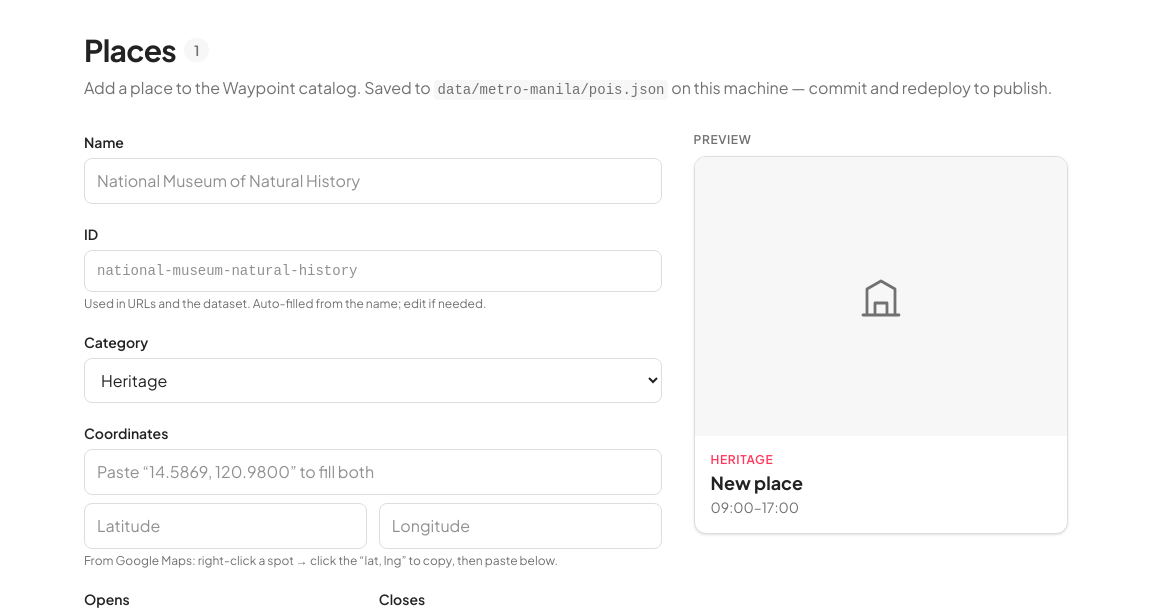
AdminDashboard › surfaces server-side field errors returned from the API
Type "Rizal Park" into the field labelled "Name" at (373, 181), box [84,158,662,204]
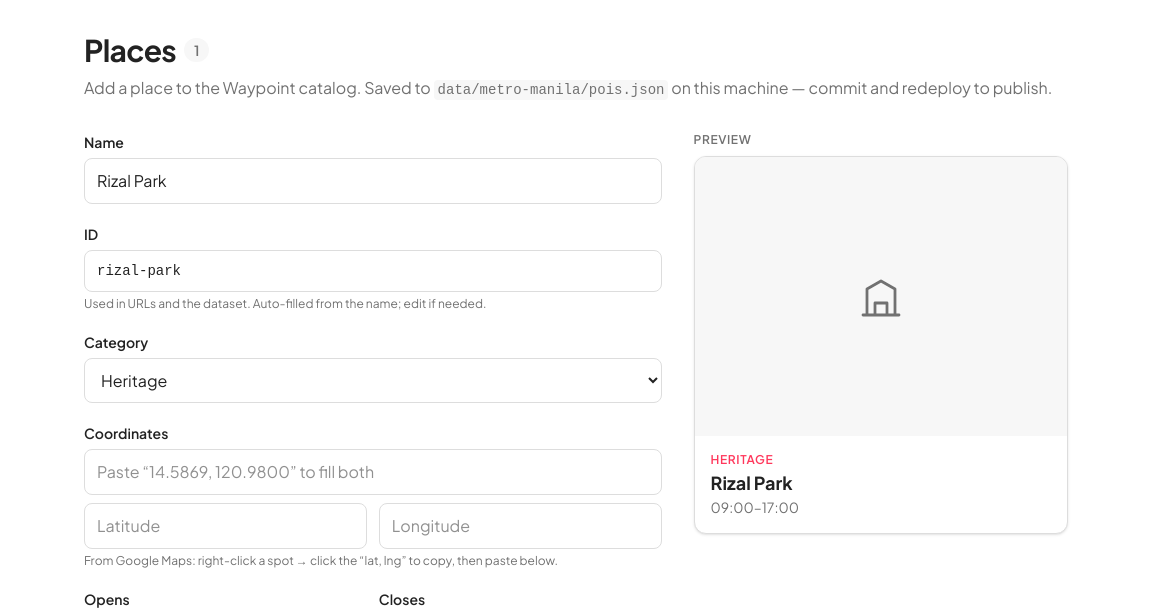
Type "14.5831" into the field labelled "Latitude" at (225, 526), box [84,503,367,549]
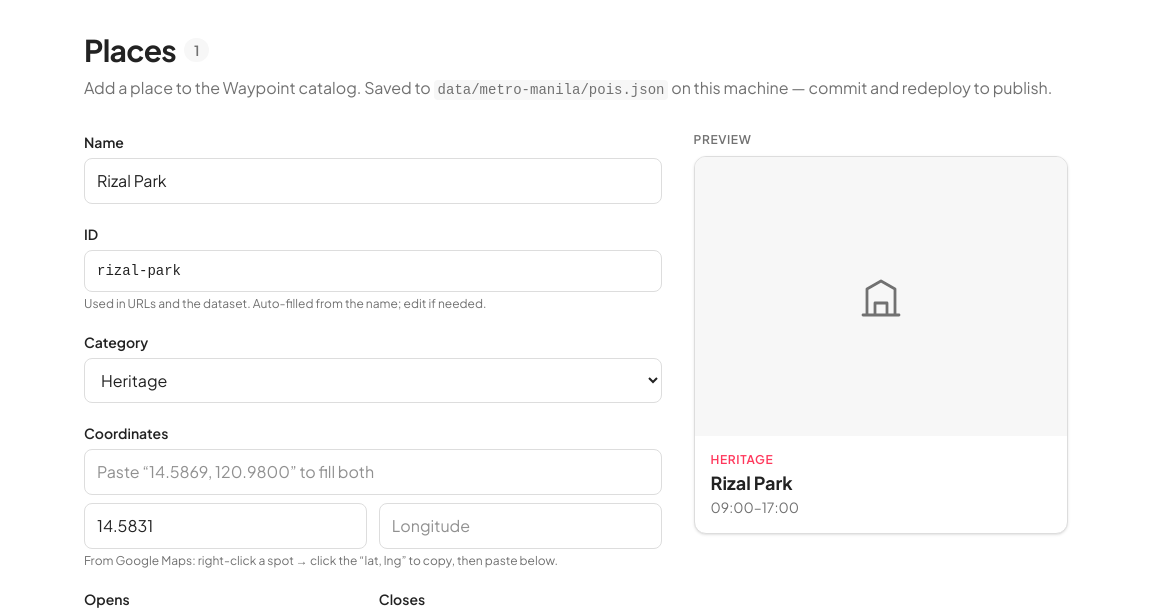
Type "120.9794" into the field labelled "Longitude" at (520, 526), box [379,503,662,549]
(page scrolled)
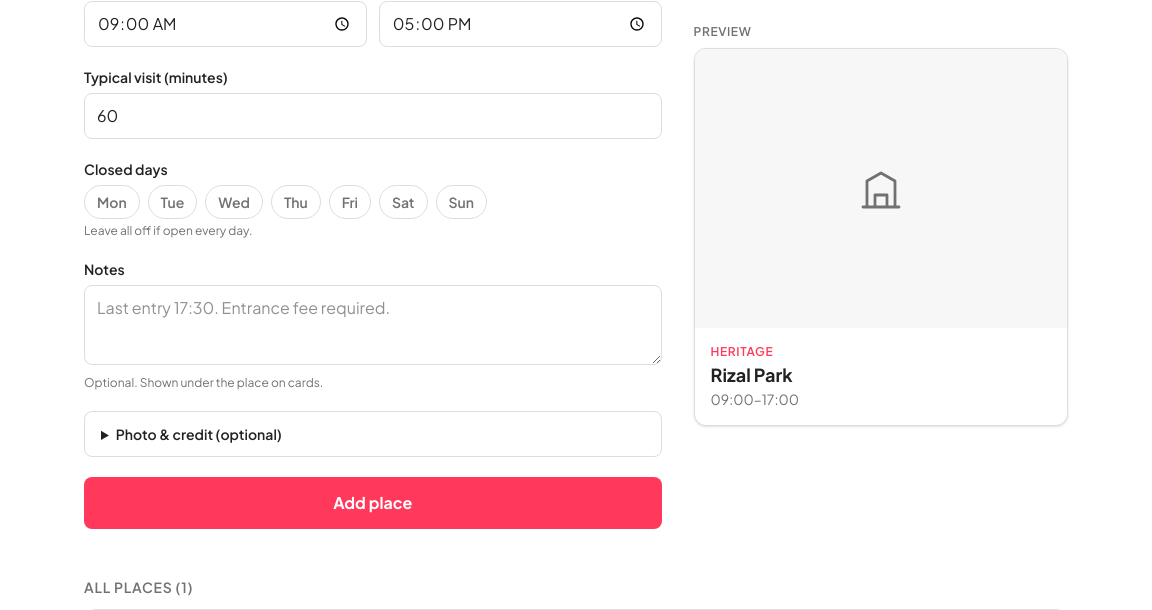
Click the button "Add place" at (373, 503), box [84,477,662,529]
(page scrolled)
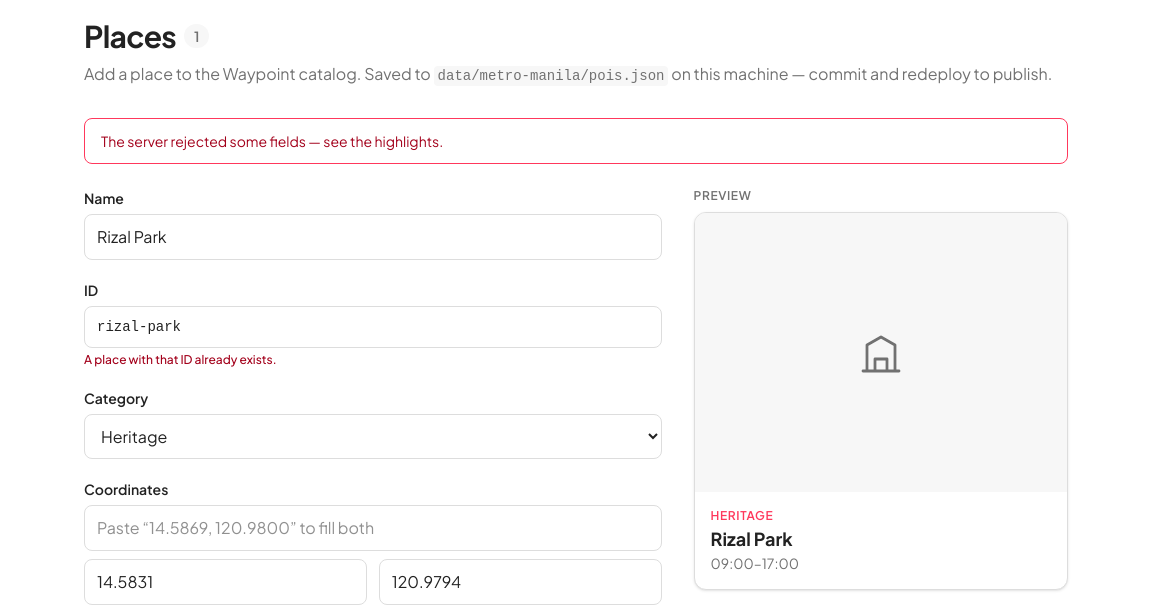
Expected: the text "The server rejected some fields — see the highlights." is shown, [84,118,1068,164]
Expected: the text "A place with that ID already exists." is shown, [84,352,276,367]
